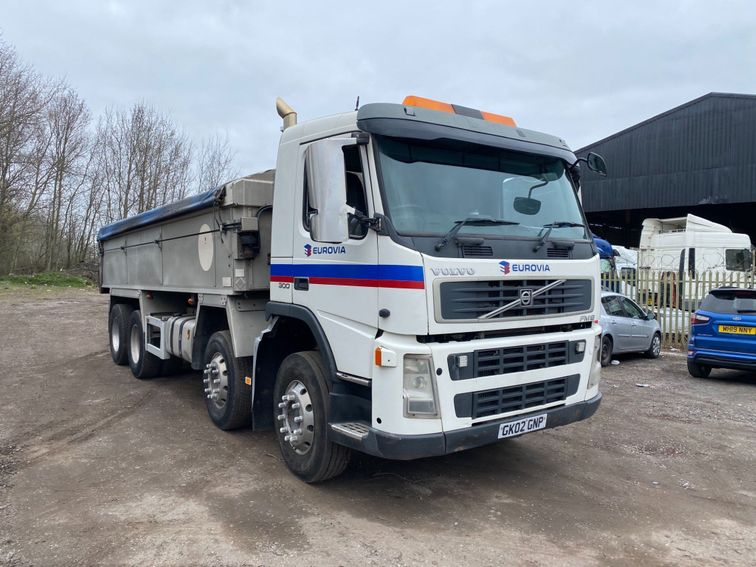Car: (686, 284, 755, 380), (595, 292, 660, 369)
Semi: (95, 95, 604, 481)
